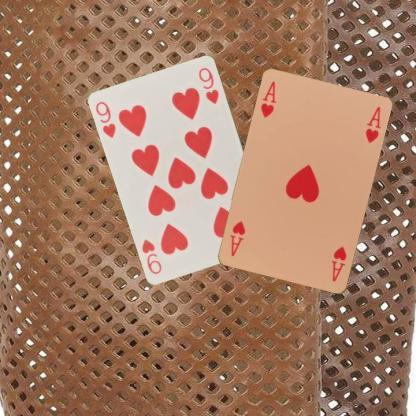9h: (93, 99, 117, 140)
Ah: (258, 78, 278, 119), (330, 244, 348, 284)
